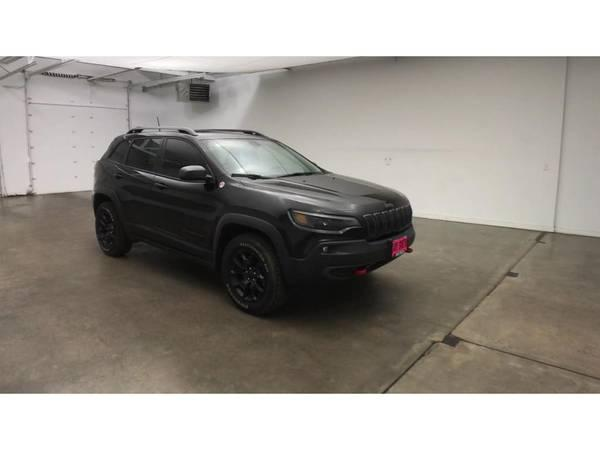Front_Bumper: (277, 221, 419, 286)
Front_Fender: (208, 184, 316, 267)
Front_Right_Door: (147, 171, 225, 261)
Front_Right_Window: (160, 137, 219, 182)
Front_Windshield: (201, 139, 326, 179)
Grille: (359, 205, 411, 242)
Hood: (232, 172, 408, 216)
Rear_Fender: (90, 139, 133, 205)
Rear_Right_Door: (115, 164, 157, 235)
Rear_Right_Window: (125, 137, 168, 174)
Right_Headlight: (292, 209, 363, 233)
Roof: (102, 127, 274, 182)
Wheel: (221, 233, 285, 311), (94, 201, 132, 255)
